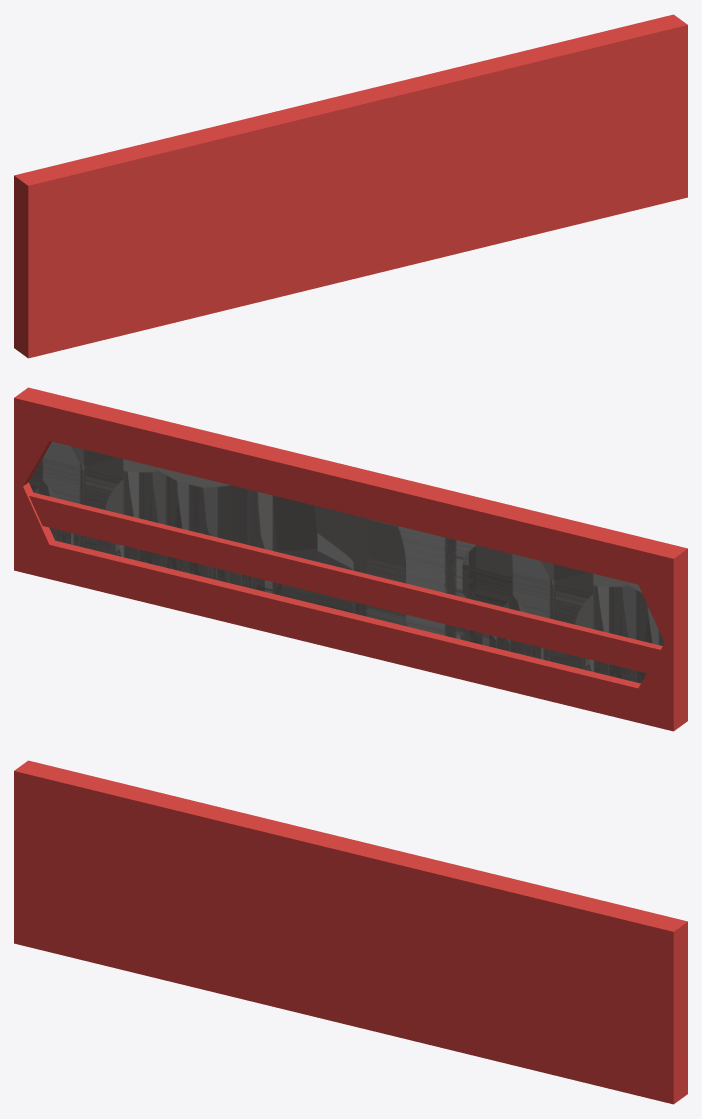
File: Dimond_longer.fbx
The picture shows the model from 3 angles, top to bottom: view 1: azimuth 30°, elevation 25°; view 2: azimuth 150°, elevation 25°; view 3: azimuth 330°, elevation 25°; orthographic projection.
Parts seen in each view (by area): view 1: Cylinder.147; view 2: Cylinder.147; view 3: Cylinder.147.
Boxes of the visible parts, x1=… form: Cylinder.147: x1=14, y1=14, x2=687, y2=358; Cylinder.147: x1=14, y1=387, x2=687, y2=731; Cylinder.147: x1=14, y1=760, x2=687, y2=1104.
Bounding box in the file's own units: 4000 × 1000 × 150.
